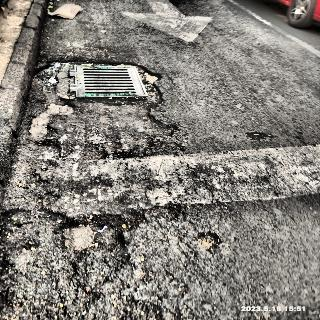alligator-crack: (35, 56, 165, 121)
pothole: (0, 208, 136, 320), (188, 228, 228, 252)
